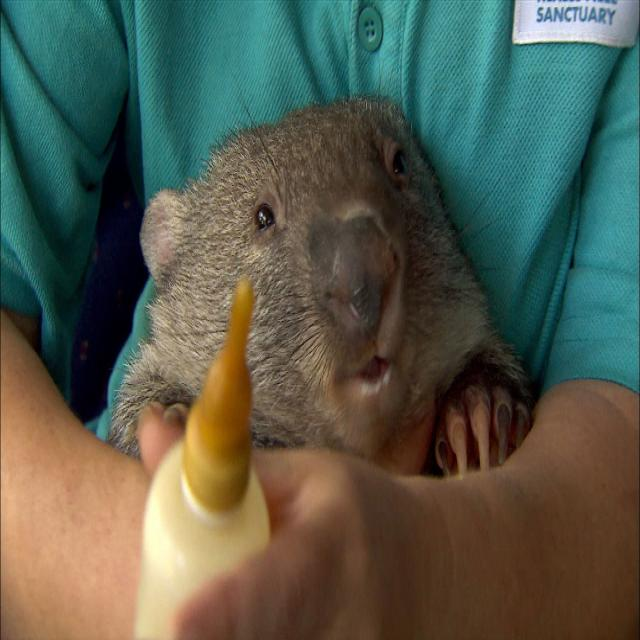Wombat: (118, 90, 529, 487)
